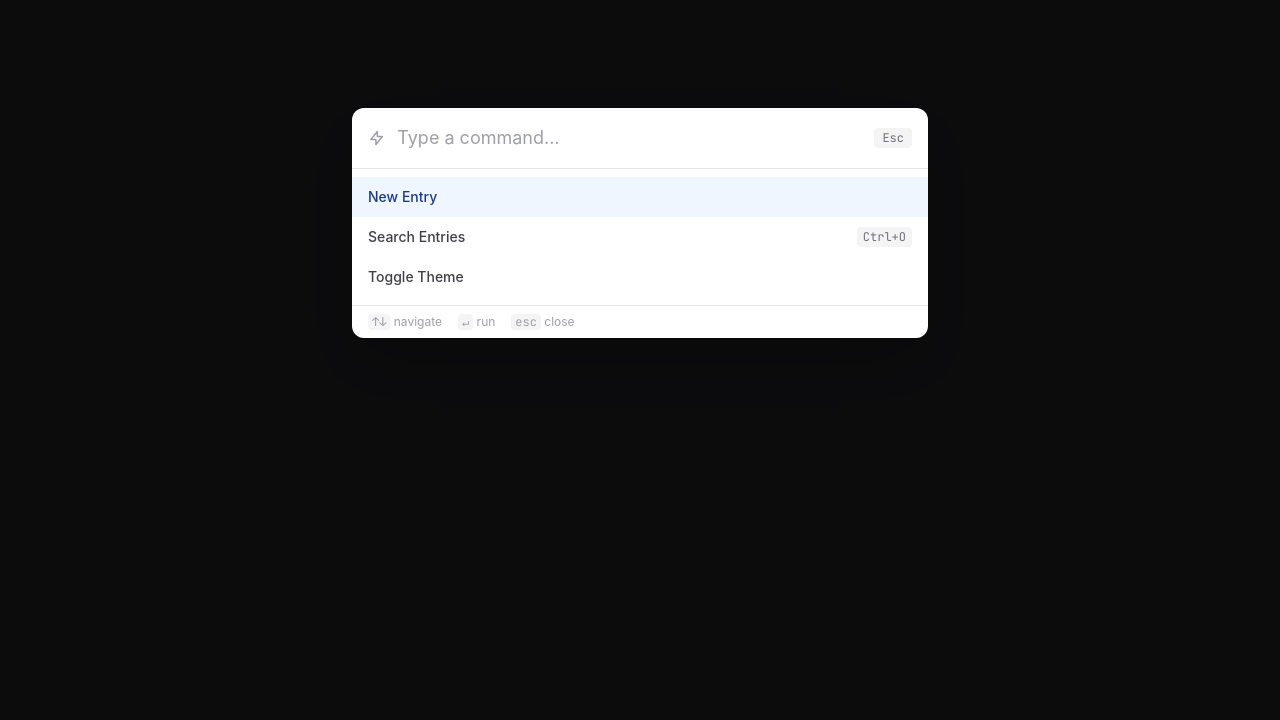
Test: CommandPalette › shows empty state for non-matching query
Step 1. Type "xyznonexistent" into the dropdown with test id "command-palette-input" → [632, 138], box left=397, top=108, right=866, bottom=168
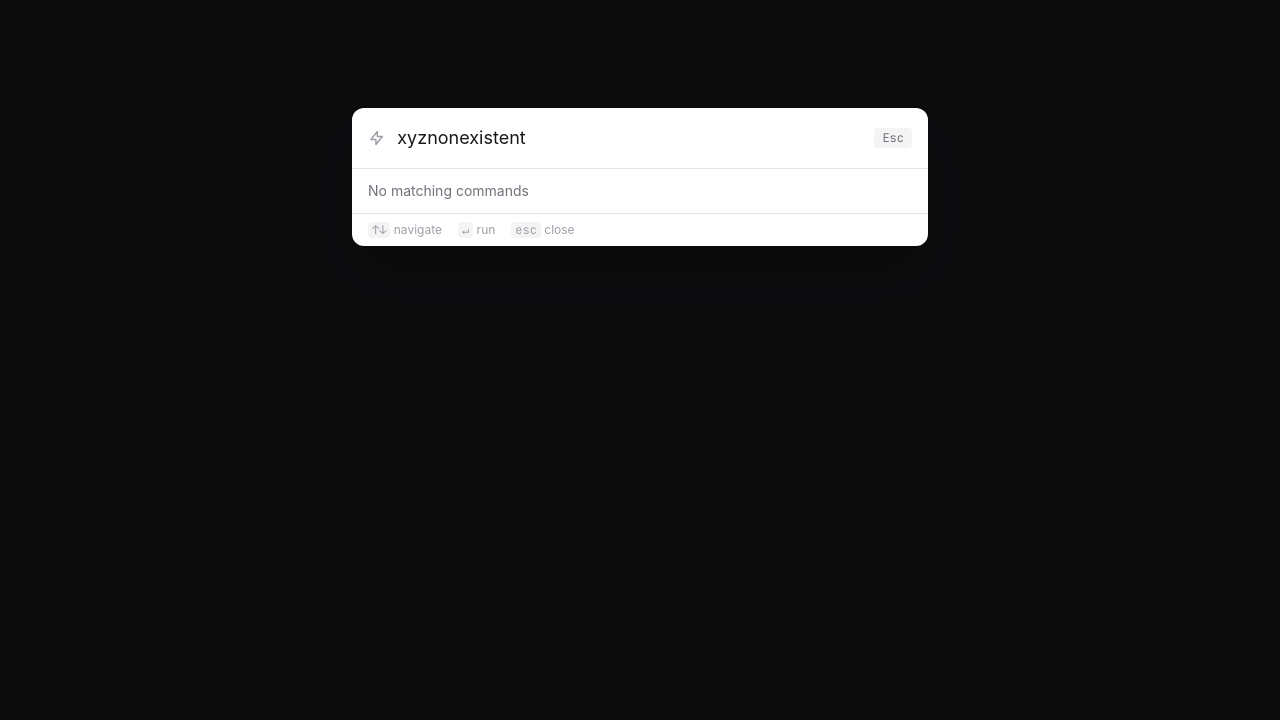
expect the text "No matching commands" is shown: met, box left=368, top=182, right=529, bottom=199
